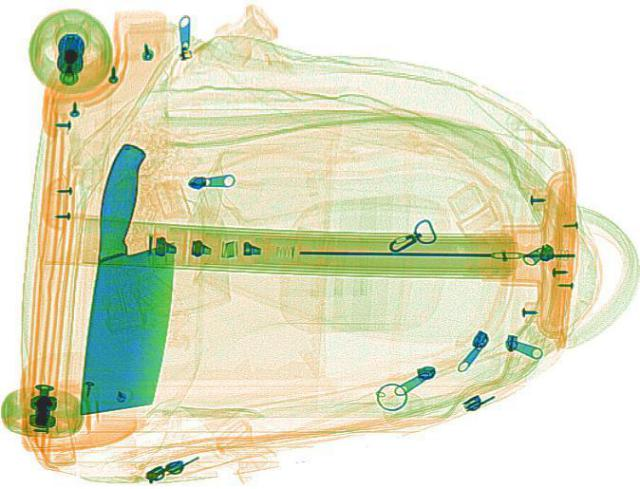Knife: (68, 140, 194, 419)
